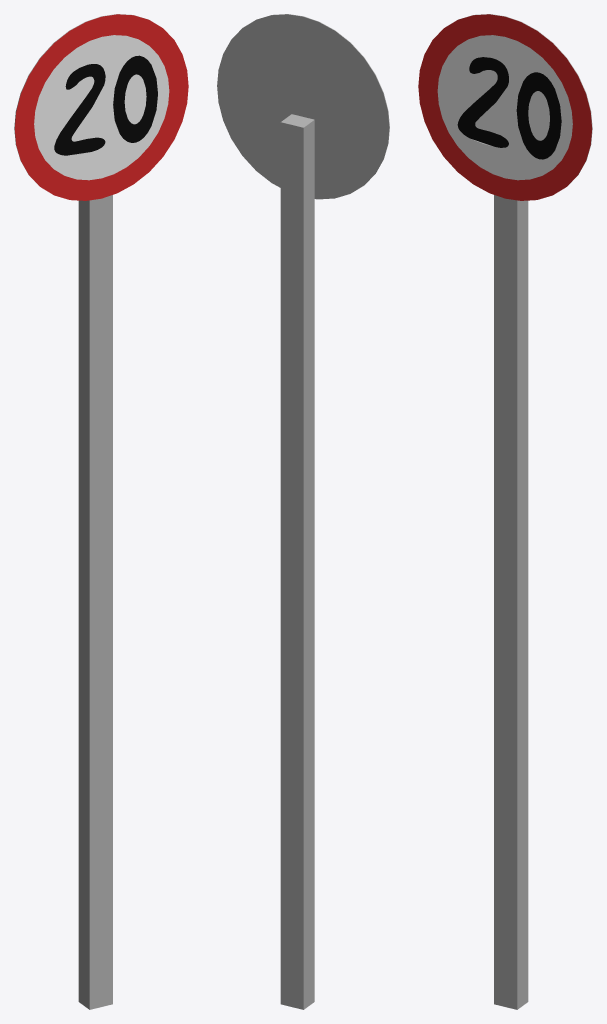
3 renders of one model, left to right at view 1: azimuth 30°, elevation 25°; view 2: azimuth 150°, elevation 25°; view 3: azimuth 330°, elevation 25°, orthographic.
Visible parts, largest first — view 1: FBXASC0500; view 2: FBXASC0500; view 3: FBXASC0500.
Part boxes in pixels (left/top/right/bottom): FBXASC0500: left=14, top=14, right=188, bottom=1009; FBXASC0500: left=217, top=14, right=389, bottom=1009; FBXASC0500: left=418, top=14, right=592, bottom=1009.
Size of the model in its own units: 17.72 by 96.46 by 2.05.
